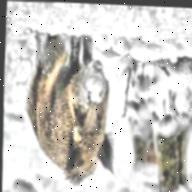boar: (3, 20, 155, 190)
